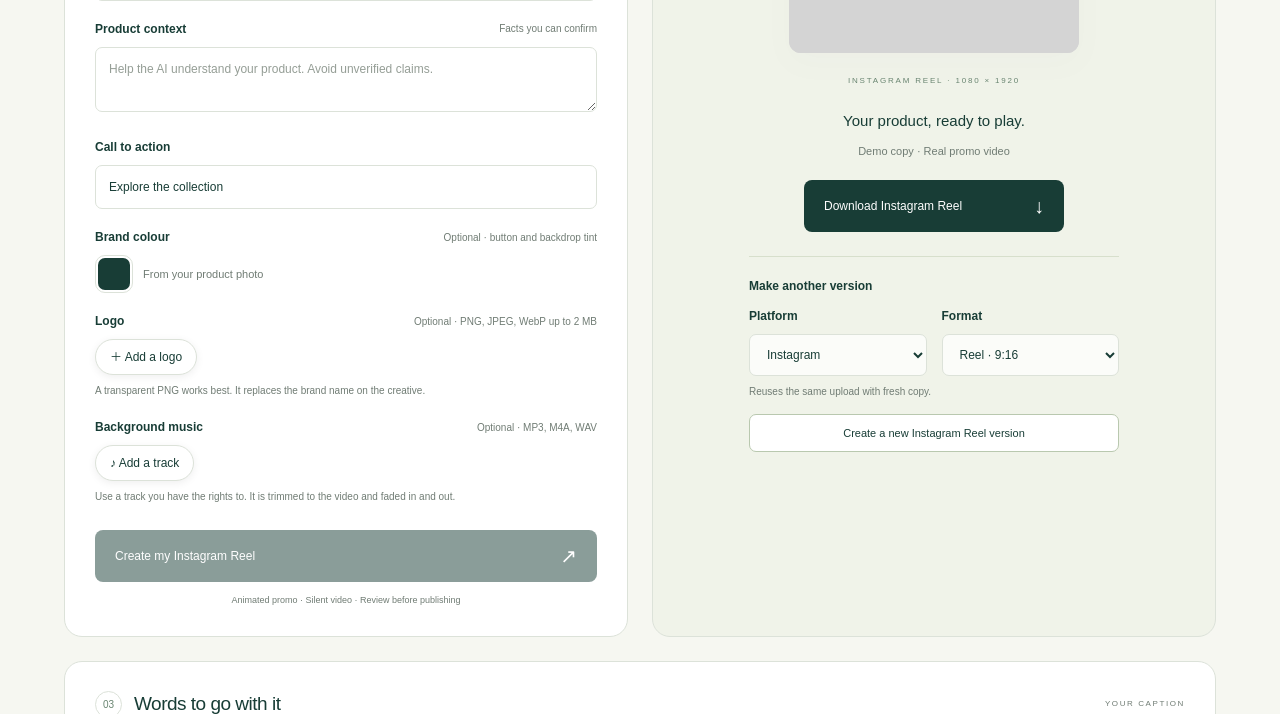
Test: another version › defaults to the current format and filters formats by platform
(page scrolled)
Check: the button "Create a new Instagram Reel version" is enabled, box [749,414,1119,452]
Check: the dropdown named "Format for the new version" shows "Reel · 9:16", box [942,334,1119,376]
Select "YouTube" in the dropdown named "Platform for the new version" at (838, 355), box [749,334,926,376]
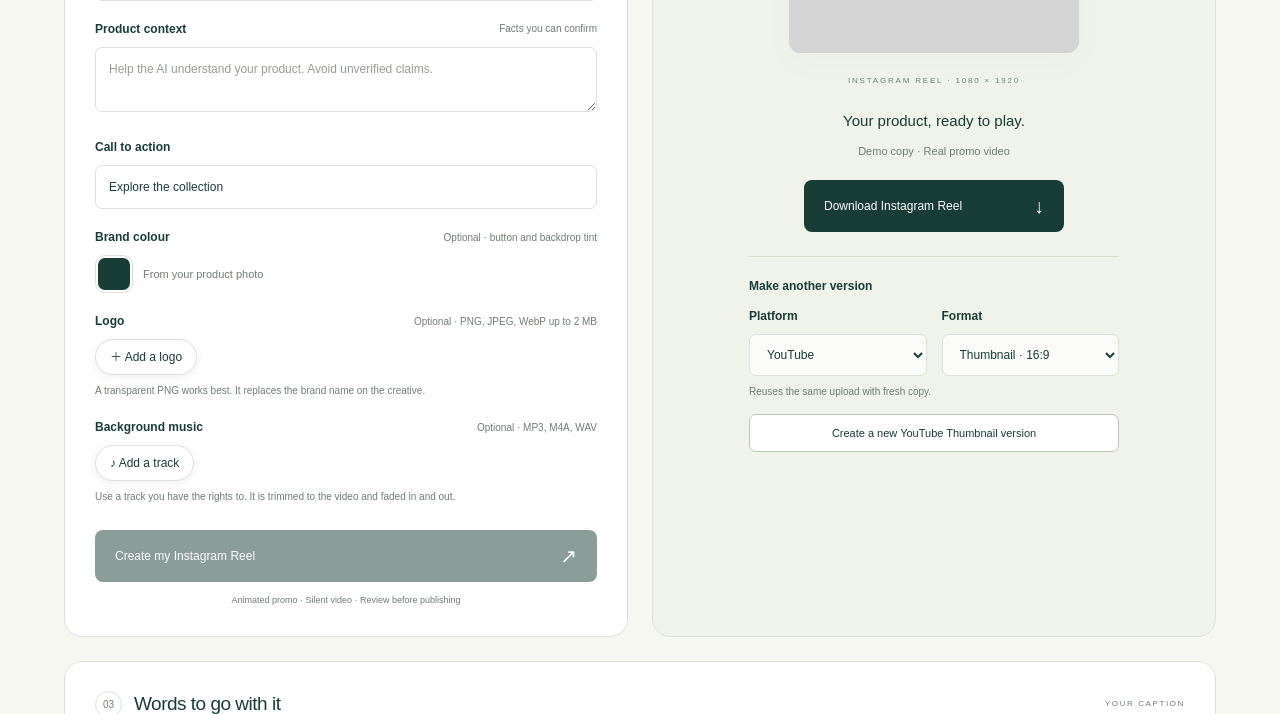
Check: the button "Create a new YouTube Thumbnail version" is shown, box [749,414,1119,452]
